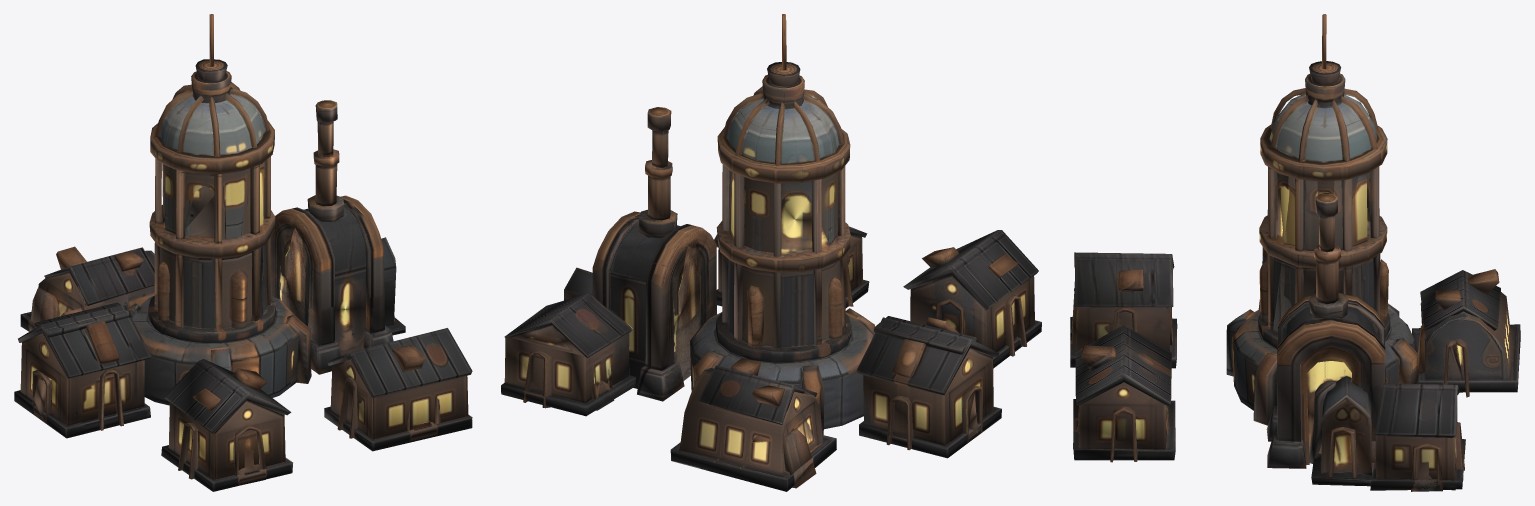
Rendered from town_lowpoly.glb.
The picture shows the model from 3 angles, left to right: view 1: azimuth 30°, elevation 25°; view 2: azimuth 150°, elevation 25°; view 3: azimuth 270°, elevation 25°; orthographic projection. The views are drawn at different scales.
Size of the model in its own units: 1 by 0.917 by 0.9966.
1 material, 1 textured.
